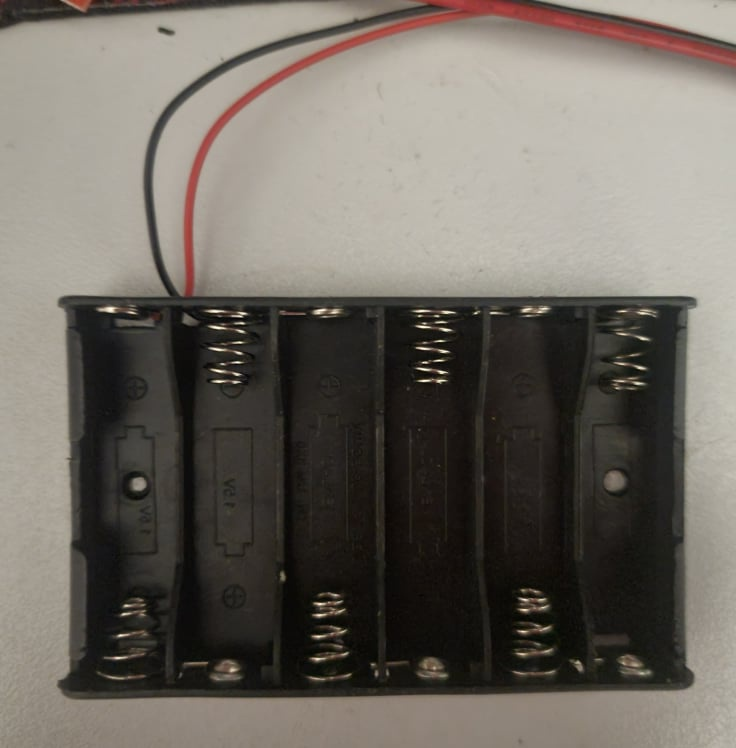BATTERY BOX: (50, 292, 698, 704)
